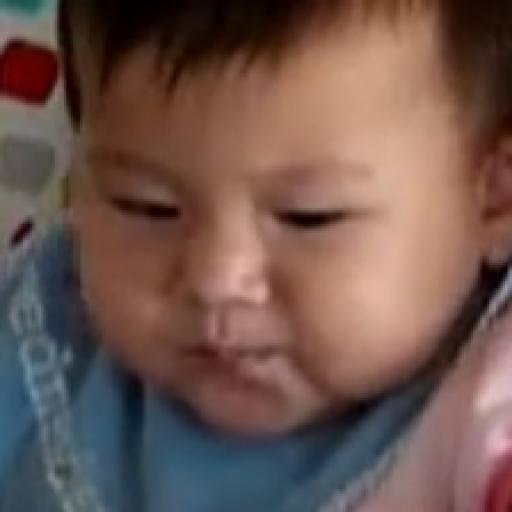Autism: (53, 0, 496, 468)
